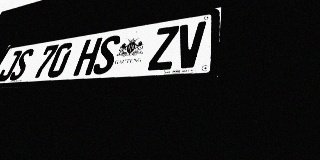0: (45, 42, 74, 78)
7: (31, 44, 59, 79)
H: (73, 37, 103, 76)
J: (0, 50, 23, 82)
S: (91, 34, 122, 75), (8, 48, 35, 81)
V: (174, 21, 206, 69)
Z: (147, 25, 179, 71)
